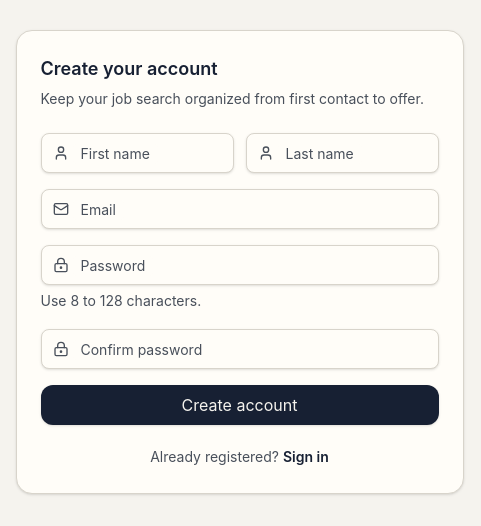
register page › identifies a seven-character password and focuses its field
The width and height of the screenshot is (481, 526).
In the field labelled "Email": (240, 209) [40,189,438,229], type "candidate@example.com"
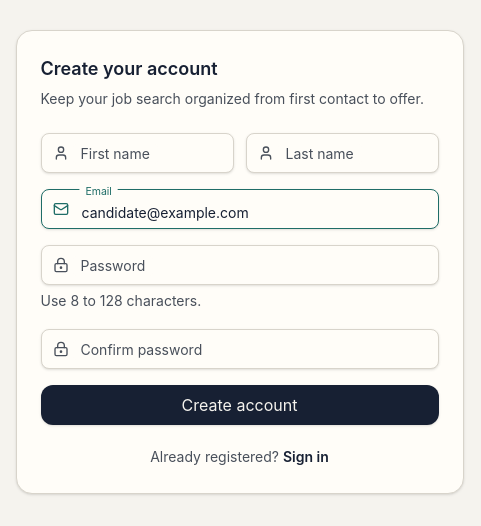
In the password field labelled "Password": (240, 265) [40,245,438,285], type "shorter"
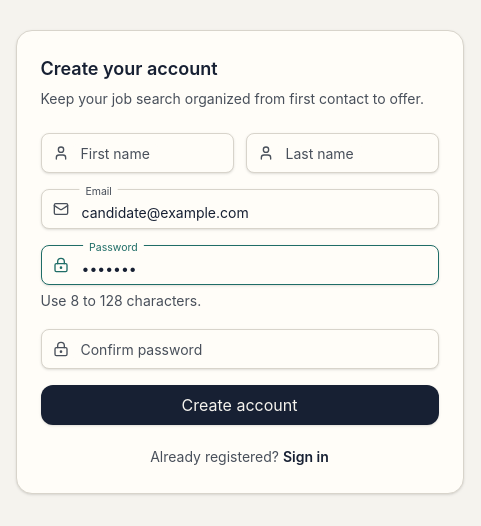
In the password field labelled "Confirm password": (240, 349) [40,329,438,369], type "shorter"
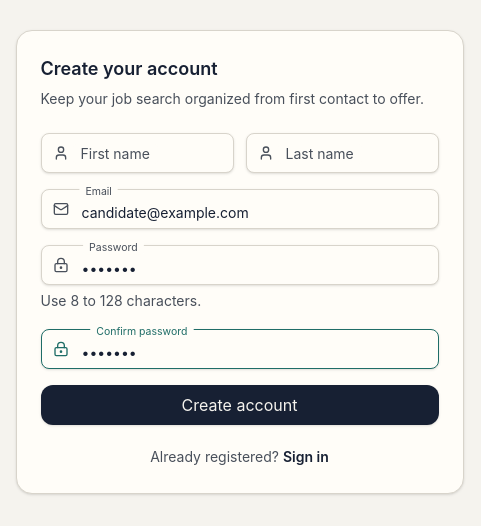
Submit the form named "Create account", box [40,133,438,425]
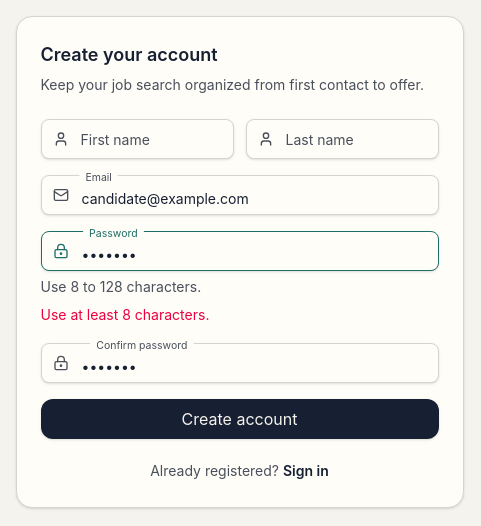
Expected: the message reads "Use at least 8 characters.", [40,306,209,323]
